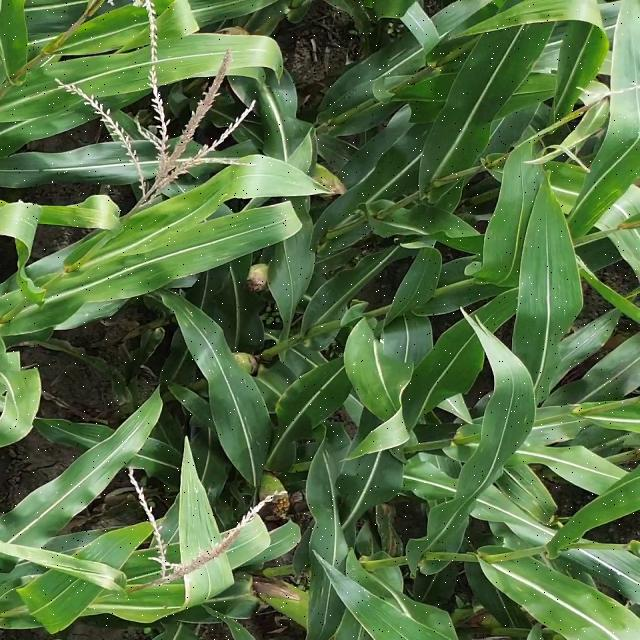gray-leaf-spot: (594, 186, 624, 232)
northern-leaf-blight: (377, 502, 414, 560)
